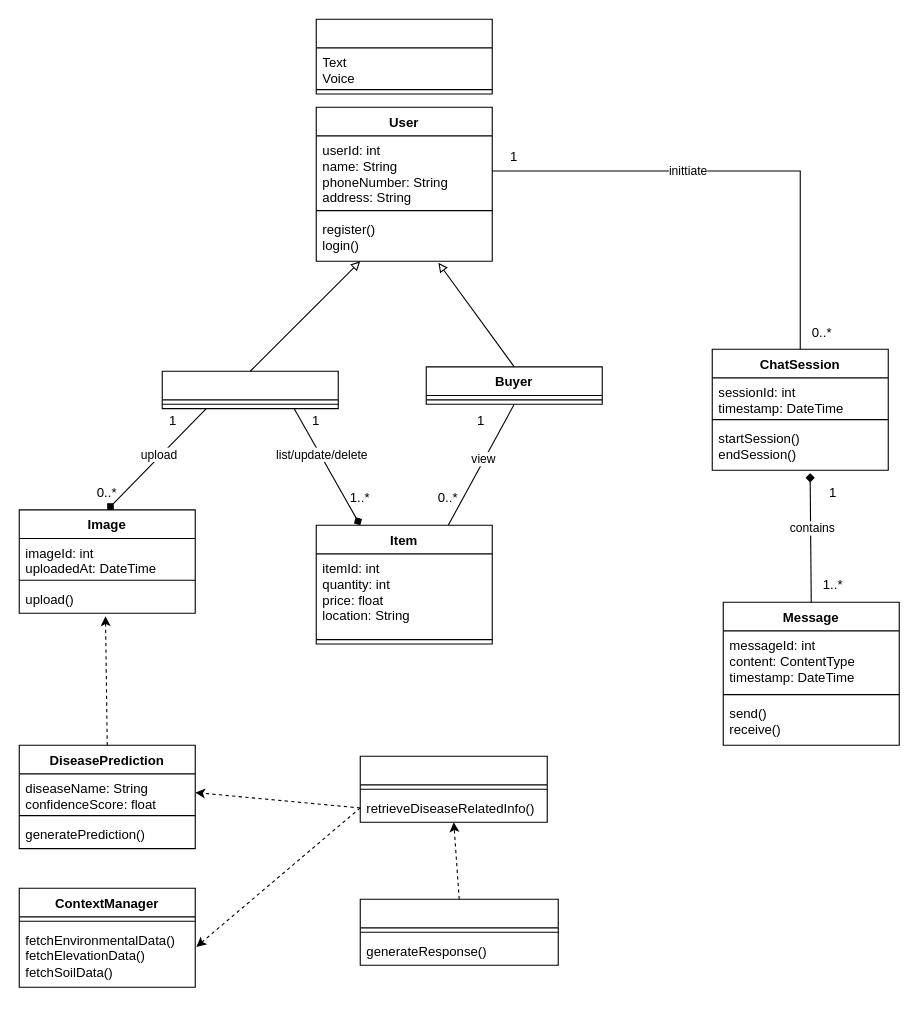
Image size: 919x1010. Some labels were removed from this diagram. The shapes that lost their labels are listed below. From the top down, each one's box as (x1, y1, x2, y2) in pixels, then its label:
(315, 18, 492, 94): ContentType
(161, 370, 338, 409): Farmer
(359, 755, 547, 822): RAG/KG
(359, 898, 558, 965): LLM
